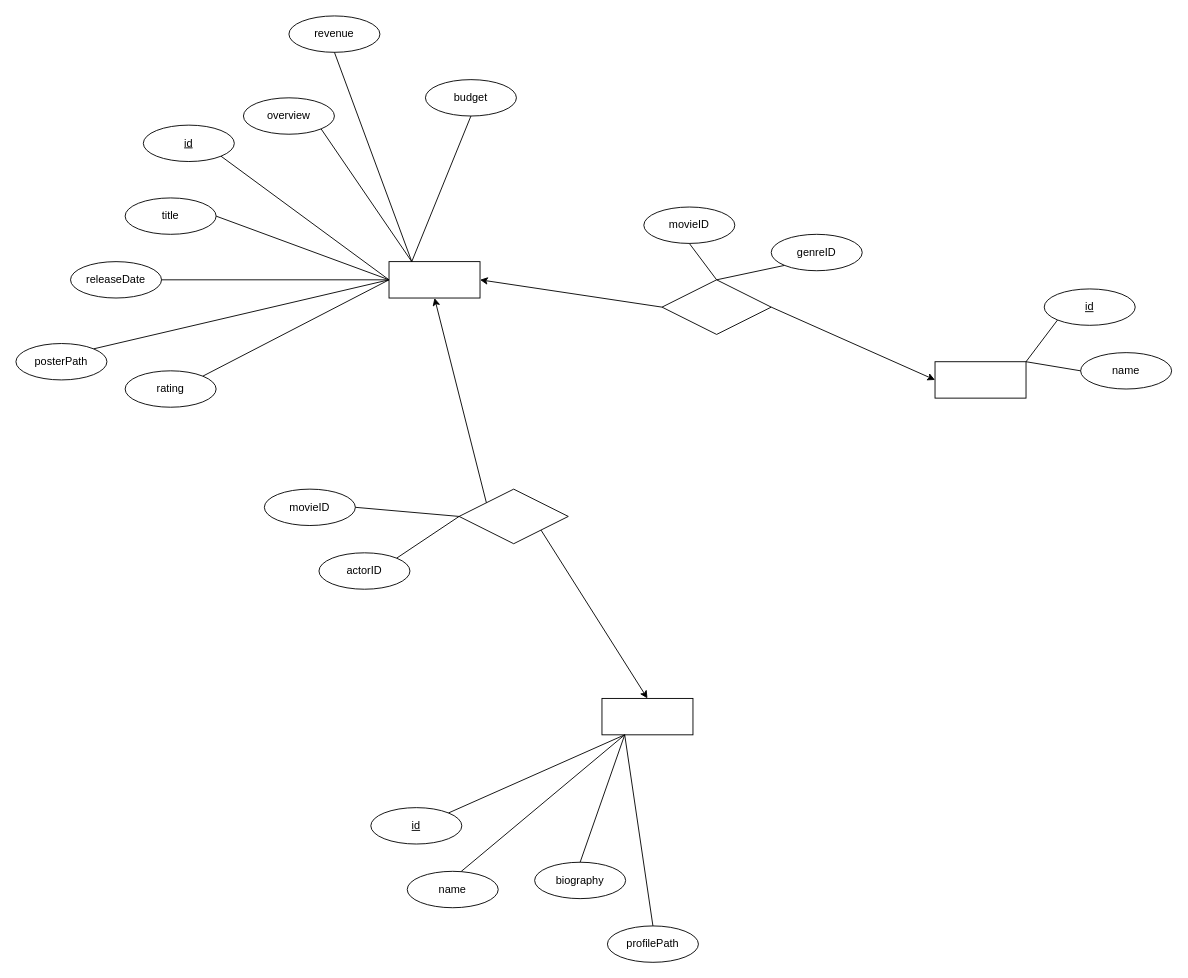
The diagram is 1188 pixels wide and 978 high, and some of its shapes have lost their labels. The centre of each missing label's shape, as x and y in pixels:
"Actor" goes at pixel 647 716.
"Acts" goes at pixel 513 516.
"Genre" goes at pixel 980 379.
"Movie" goes at pixel 434 279.
"MovieGenre" goes at pixel 716 306.
